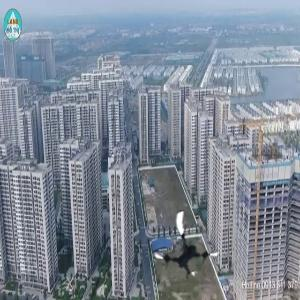drone: (152, 210, 225, 283)
